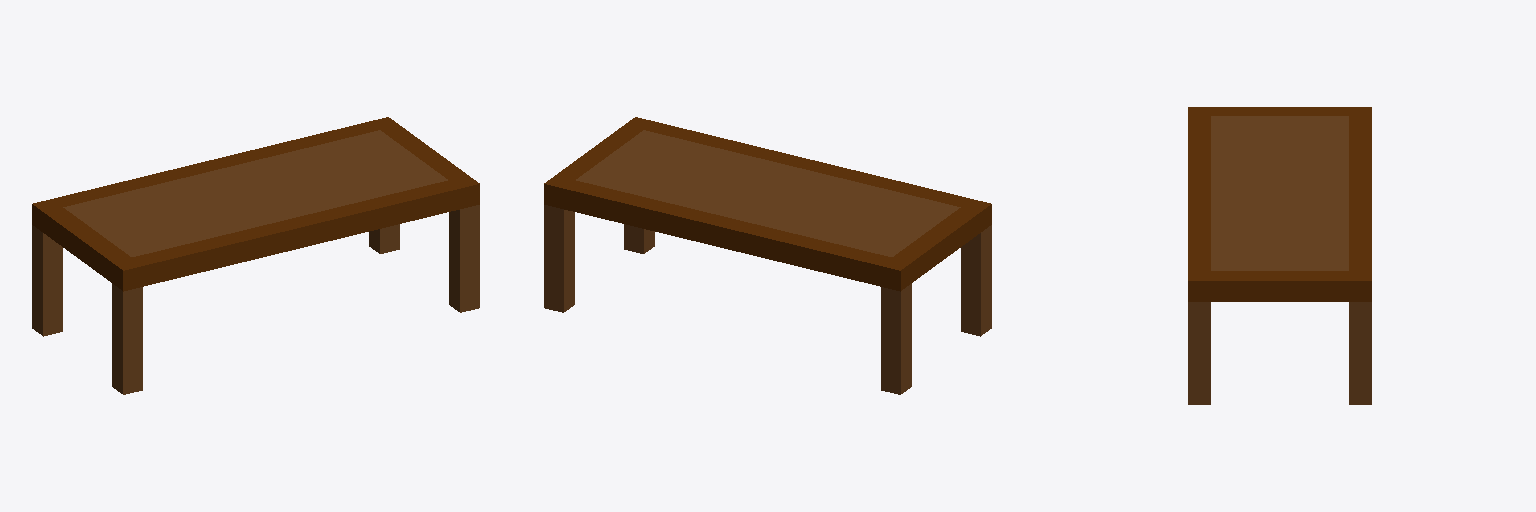
The picture shows the model from 3 angles: view 1: azimuth 30°, elevation 25°; view 2: azimuth 150°, elevation 25°; view 3: azimuth 270°, elevation 25°; orthographic projection.
Visible parts, largest first — view 1: Model; view 2: Model; view 3: Model.
Boxes of the visible parts, x1,y1,x2,y2 form: Model: [32, 117, 479, 394]; Model: [544, 117, 991, 394]; Model: [1188, 107, 1371, 404].
Size of the model in its own units: 18 by 6 by 8.
1 materials, 1 textured.